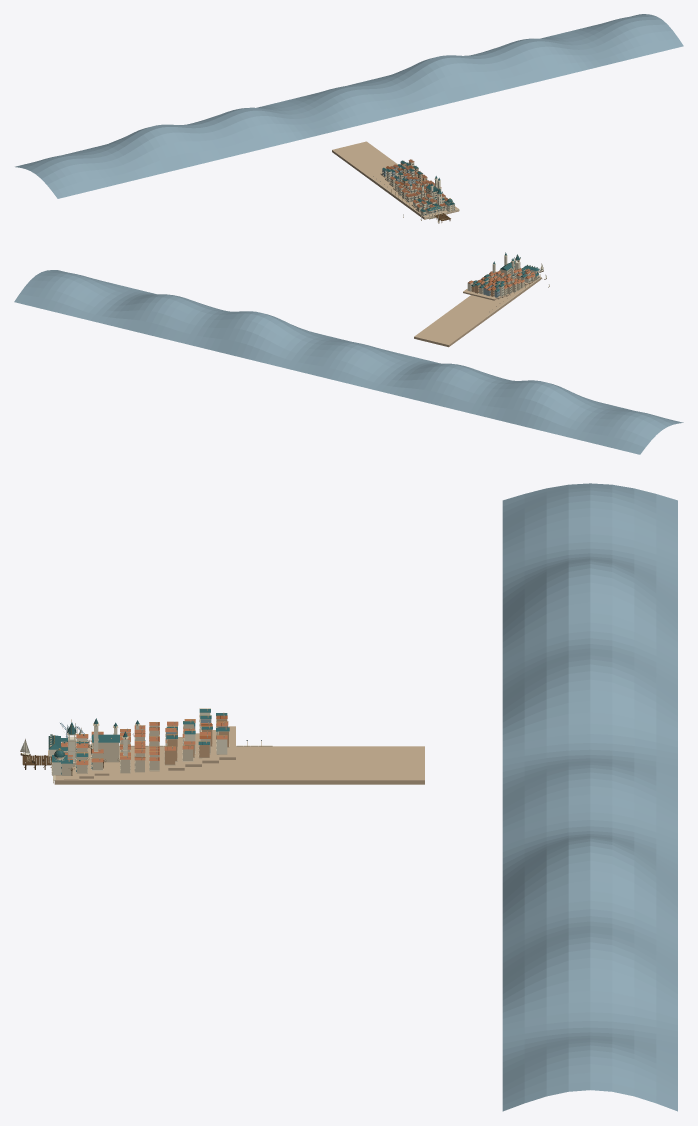
The model's file is harbor.glb.
The picture shows the model from 3 angles, top to bottom: view 1: azimuth 30°, elevation 25°; view 2: azimuth 150°, elevation 25°; view 3: azimuth 270°, elevation 25°; orthographic projection. The views are drawn at different scales.
Visible parts, largest first — view 1: Atmospheric distant coast / web batch, Sandstone / web batch, Warm cut limestone / web batch, Ochre fired tiles / web batch, Weathered copper roof / web batch, Ivory lime plaster / web batch; view 2: Atmospheric distant coast / web batch, Sandstone / web batch, Warm cut limestone / web batch, Ochre fired tiles / web batch, Weathered copper roof / web batch, Ivory lime plaster / web batch; view 3: Atmospheric distant coast / web batch, Sandstone / web batch, Warm cut limestone / web batch, Ochre fired tiles / web batch, Weathered copper roof / web batch, Ivory lime plaster / web batch.
Part boxes in pixels (left/top/right/bottom): Atmospheric distant coast / web batch: left=15, top=14, right=683, bottom=198; Sandstone / web batch: left=332, top=141, right=458, bottom=219; Warm cut limestone / web batch: left=370, top=163, right=459, bottom=218; Ochre fired tiles / web batch: left=390, top=159, right=447, bottom=210; Weathered copper roof / web batch: left=382, top=160, right=454, bottom=214; Ivory lime plaster / web batch: left=386, top=161, right=454, bottom=214; Atmospheric distant coast / web batch: left=14, top=270, right=683, bottom=454; Sandstone / web batch: left=414, top=268, right=542, bottom=347; Warm cut limestone / web batch: left=468, top=255, right=541, bottom=316; Ochre fired tiles / web batch: left=468, top=268, right=535, bottom=290; Weathered copper roof / web batch: left=471, top=252, right=539, bottom=291; Ivory lime plaster / web batch: left=467, top=256, right=538, bottom=296; Atmospheric distant coast / web batch: left=502, top=483, right=677, bottom=1111; Sandstone / web batch: left=48, top=708, right=424, bottom=784; Warm cut limestone / web batch: left=48, top=712, right=272, bottom=782; Ochre fired tiles / web batch: left=61, top=719, right=228, bottom=764; Weathered copper roof / web batch: left=48, top=709, right=229, bottom=774; Ivory lime plaster / web batch: left=49, top=713, right=227, bottom=774.
Bounding box in the file's own units: 594 × 26.76 × 270.
